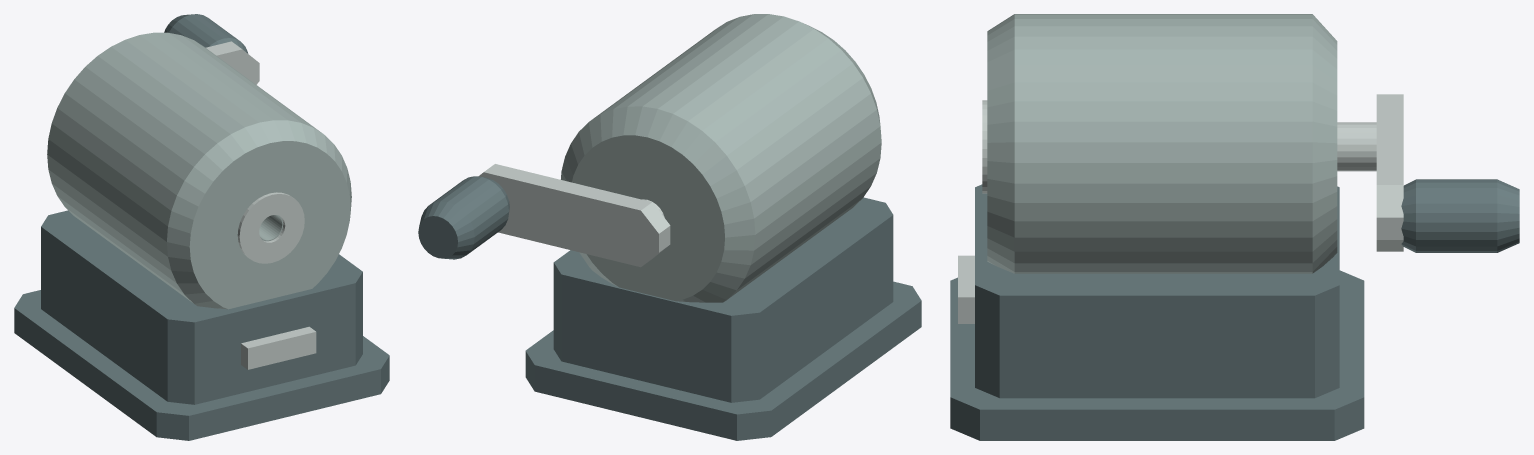
3 views of the same model, side by side, from view 1: azimuth 30°, elevation 25°; view 2: azimuth 150°, elevation 25°; view 3: azimuth 270°, elevation 25° (orthographic). The views are drawn at different scales.
Parts seen in each view (by area): view 1: WholeHorizontalDrumWithBlindFrontBore, WholeClosedCollectionCaseExterior, WholeGroundedChamferedFoot, WholeAnnularFrontEntryGuide, WholeCollectionCaseFrontPull, WholeRearCrankAxialGrip, WholeRearOffsetCrankArm; view 2: WholeHorizontalDrumWithBlindFrontBore, WholeClosedCollectionCaseExterior, WholeGroundedChamferedFoot, WholeRearOffsetCrankArm, WholeRearCrankAxialGrip; view 3: WholeHorizontalDrumWithBlindFrontBore, WholeClosedCollectionCaseExterior, WholeGroundedChamferedFoot, WholeRearCrankAxialGrip, WholeRearOffsetCrankArm, WholeRearStubShaft, WholeCollectionCaseFrontPull, WholeAnnularFrontEntryGuide.
Boxes of the visible parts, <box> form: WholeHorizontalDrumWithBlindFrontBore: <box>47,32,351,309</box>; WholeClosedCollectionCaseExterior: <box>41,210,362,404</box>; WholeGroundedChamferedFoot: <box>14,290,389,440</box>; WholeAnnularFrontEntryGuide: <box>237,192,304,263</box>; WholeCollectionCaseFrontPull: <box>241,326,316,369</box>; WholeRearCrankAxialGrip: <box>164,14,248,53</box>; WholeRearOffsetCrankArm: <box>206,41,259,84</box>; WholeHorizontalDrumWithBlindFrontBore: <box>561,14,881,302</box>; WholeClosedCollectionCaseExterior: <box>553,197,893,402</box>; WholeGroundedChamferedFoot: <box>525,281,921,440</box>; WholeRearOffsetCrankArm: <box>478,164,670,267</box>; WholeRearCrankAxialGrip: <box>418,176,509,259</box>; WholeHorizontalDrumWithBlindFrontBore: <box>987,14,1337,273</box>; WholeClosedCollectionCaseExterior: <box>975,184,1339,398</box>; WholeGroundedChamferedFoot: <box>950,270,1364,440</box>; WholeRearCrankAxialGrip: <box>1401,179,1519,252</box>; WholeRearOffsetCrankArm: <box>1376,94,1403,251</box>; WholeRearStubShaft: <box>1337,122,1376,171</box>; WholeCollectionCaseFrontPull: <box>958,255,974,323</box>; WholeAnnularFrontEntryGuide: <box>982,100,987,193</box>.
Size of the model in its own units: 0.156 by 0.154 by 0.231.
